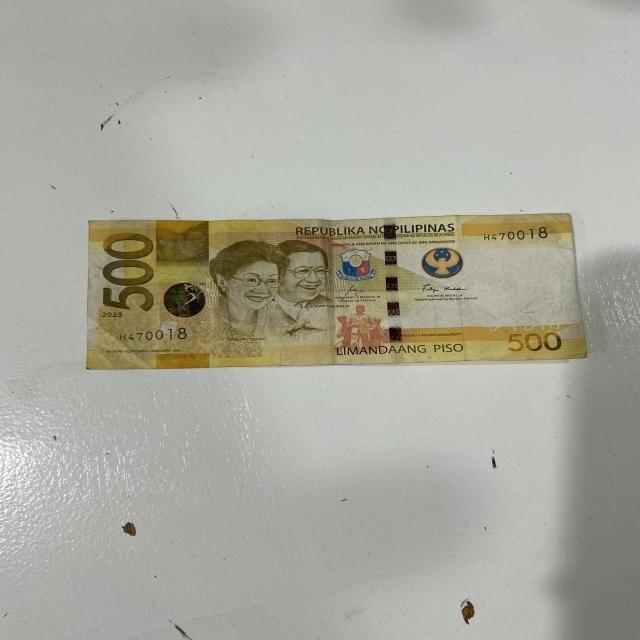concealed_value: (156, 222, 211, 266)
optically_variable_device: (157, 283, 208, 318)
see_through_mark: (490, 321, 571, 336)
